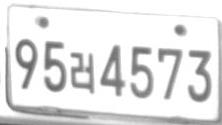3: (188, 49, 212, 103)
4: (99, 44, 125, 96)
5: (43, 41, 67, 91), (130, 46, 153, 98)
7: (157, 48, 182, 99)
9: (15, 38, 38, 89)
러: (70, 51, 94, 93)
